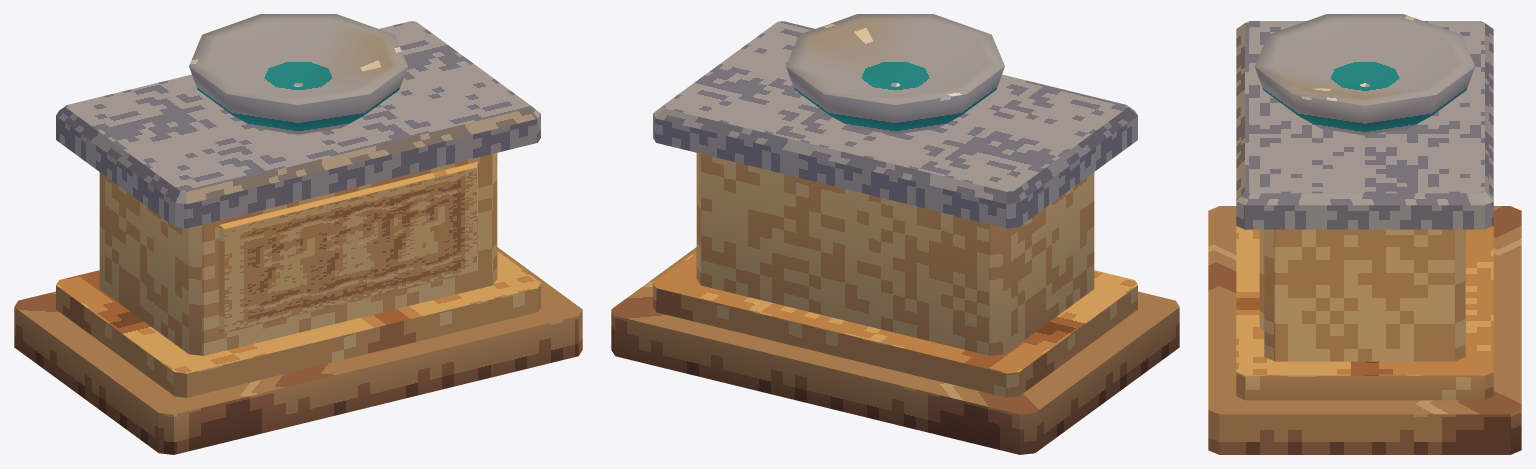
Rendered from relic.altar.glb.
3 views of the same model, side by side, from view 1: azimuth 30°, elevation 25°; view 2: azimuth 150°, elevation 25°; view 3: azimuth 270°, elevation 25° (orthographic).
Parts seen in each view (by area): view 1: kit_base, kit_top, kit_relief, kit_block, kit_bowl; view 2: kit_base, kit_block, kit_top, kit_bowl; view 3: kit_base, kit_top, kit_block, kit_bowl, kit_relief.
Part boxes in pixels (left/top/right/bottom): kit_base: left=14, top=247, right=582, bottom=454; kit_top: left=56, top=21, right=540, bottom=228; kit_relief: left=219, top=162, right=477, bottom=334; kit_block: left=99, top=153, right=497, bottom=355; kit_bowl: left=189, top=14, right=407, bottom=134; kit_base: left=611, top=247, right=1179, bottom=454; kit_block: left=696, top=153, right=1094, bottom=355; kit_top: left=653, top=21, right=1137, bottom=228; kit_bowl: left=786, top=14, right=1004, bottom=134; kit_base: left=1208, top=206, right=1521, bottom=454; kit_top: left=1236, top=21, right=1493, bottom=229; kit_block: left=1264, top=229, right=1465, bottom=361; kit_bowl: left=1254, top=14, right=1475, bottom=135; kit_relief: left=1259, top=229, right=1264, bottom=331.
Bounding box in the file's own units: 2.2 × 1.44 × 1.4.
Materials: 5 (5 with a texture image).
